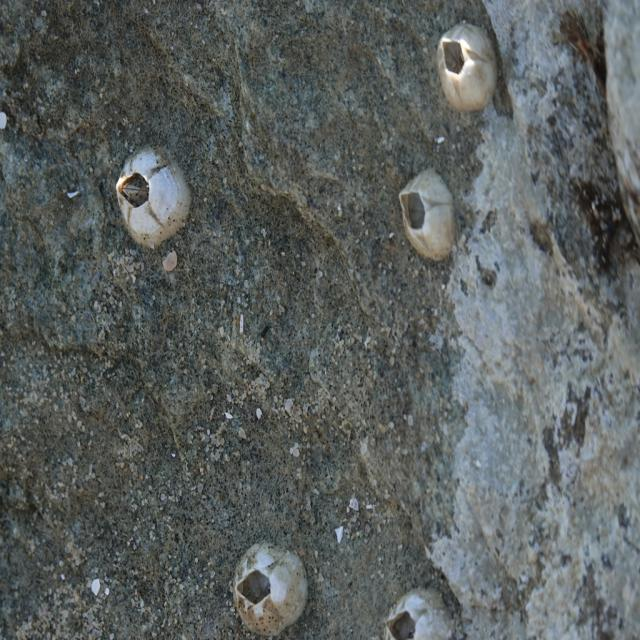barnacles: (110, 136, 197, 257), (223, 536, 310, 630), (395, 164, 464, 274), (427, 20, 500, 116), (375, 574, 466, 640)
